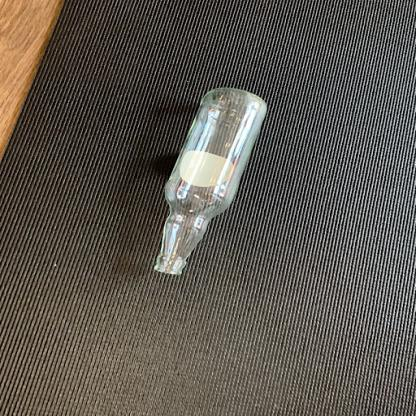trash: (149, 85, 268, 282)
